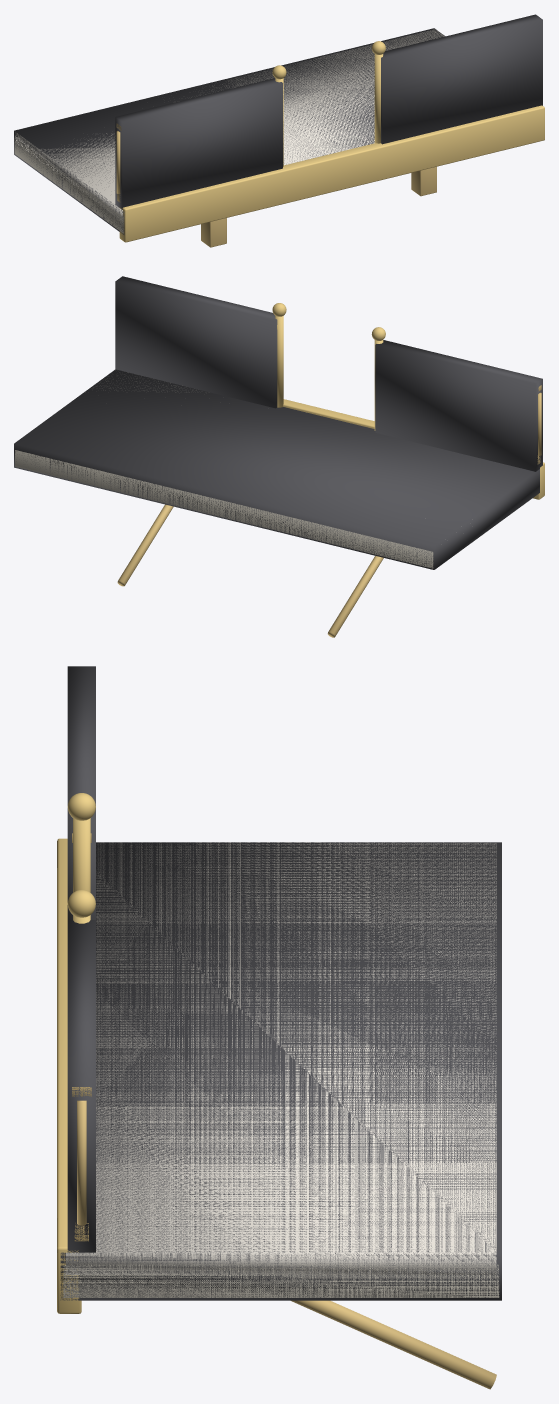
Rendered from mezzanino_varco.glb.
3 views of the same model, one above another, from view 1: azimuth 30°, elevation 25°; view 2: azimuth 150°, elevation 25°; view 3: azimuth 270°, elevation 25° (orthographic). The views are drawn at different scales.
Parts seen in each view (by area): view 1: fascia, COL_par_sx, COL_par_dx, COL_solaio, piano, solaio, mensola_0, mensola_1, varco_paletto_1, par_fr_sx_bal_0; view 2: COL_solaio, COL_par_sx, COL_par_dx, solaio, fascia, mensola_d_0, mensola_d_1, varco_paletto_1; view 3: COL_solaio, piano, solaio, COL_par_dx, fascia, COL_par_sx, mensola_d_1, varco_paletto_-1, par_fr_dx_bal_3.
Part boxes in pixels (<box>): fascia: <box>119,105,544,242</box>; COL_par_sx: <box>115,78,282,209</box>; COL_par_dx: <box>381,14,542,144</box>; COL_solaio: <box>14,28,445,234</box>; piano: <box>15,29,444,219</box>; solaio: <box>14,138,123,233</box>; mensola_0: <box>201,218,226,247</box>; mensola_1: <box>411,166,436,196</box>; varco_paletto_1: <box>374,54,383,143</box>; par_fr_sx_bal_0: <box>116,130,120,193</box>; COL_solaio: <box>14,369,539,569</box>; COL_par_sx: <box>375,340,542,471</box>; COL_par_dx: <box>115,276,277,408</box>; solaio: <box>15,450,433,568</box>; fascia: <box>283,399,544,499</box>; mensola_d_0: <box>327,556,383,637</box>; mensola_d_1: <box>117,504,173,586</box>; varco_paletto_1: <box>275,316,283,407</box>; COL_solaio: <box>60,842,501,1300</box>; piano: <box>66,842,496,1274</box>; solaio: <box>63,1264,499,1297</box>; COL_par_dx: <box>67,920,95,1252</box>; fascia: <box>57,838,81,1313</box>; COL_par_sx: <box>67,666,95,919</box>; mensola_d_1: <box>291,1300,496,1389</box>; varco_paletto_-1: <box>73,818,90,892</box>; par_fr_dx_bal_3: <box>77,1100,86,1225</box>.
Size of the model in its own units: 5.56 by 2.77 by 2.52.
